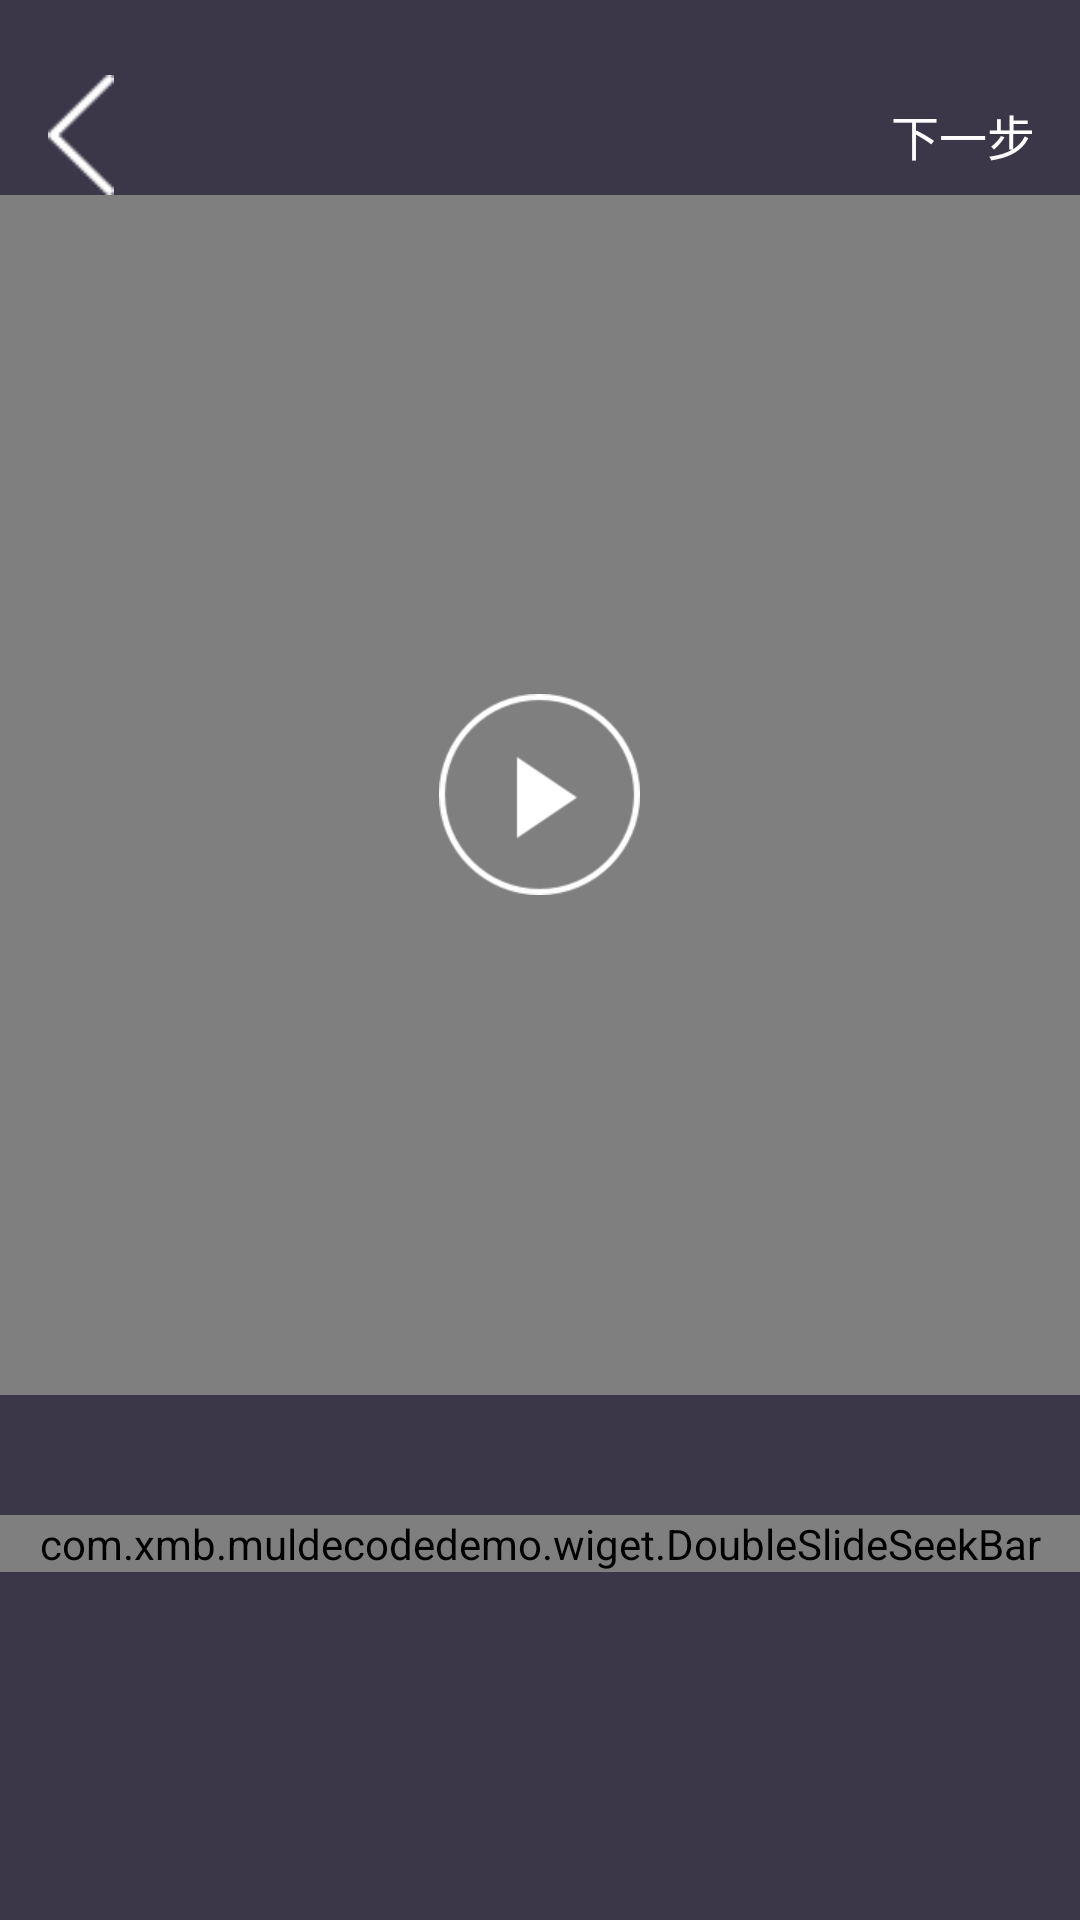

Where to tap for icons on this 1080px x 1920px app screen, as (x=x, y=y):
back: (x=81, y=135)
play video: (x=539, y=794)
